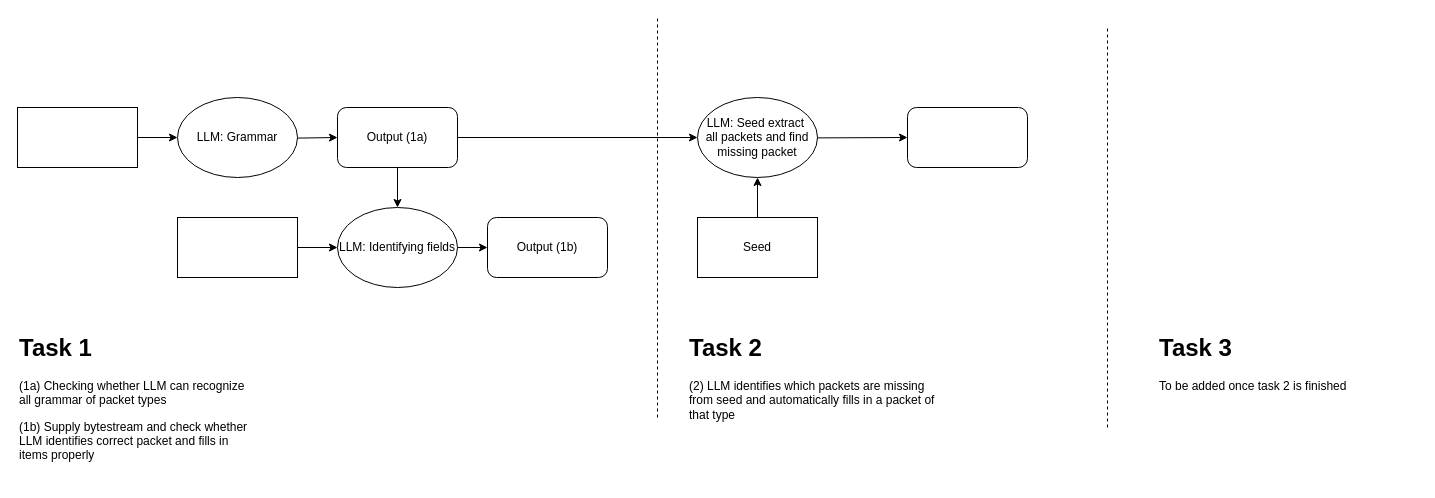
Image size: 1435x498. Some labels were removed from this diagram. The centre of each missing label's shape, as x and y in pixels:
Byte stream: point 237,247
Output (2): point 967,137
Prompt for providing grammar: point 77,137
